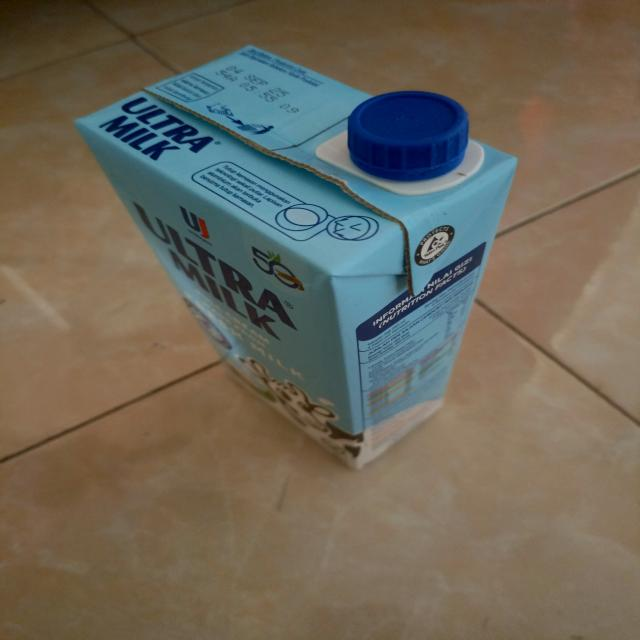ultramilk-full-cream: (74, 39, 519, 473)
